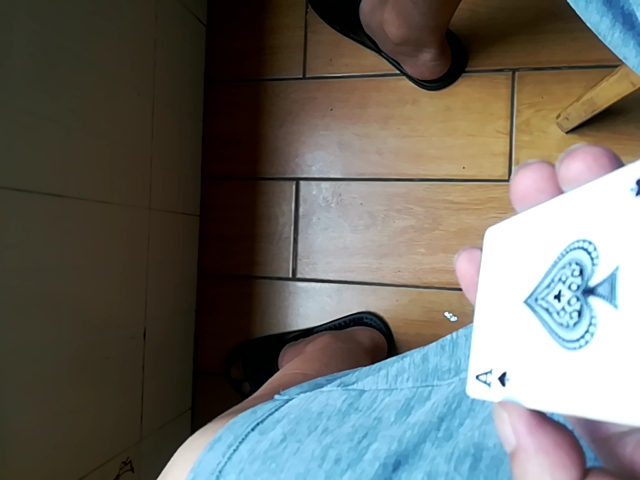ht a: (469, 142, 639, 447)
